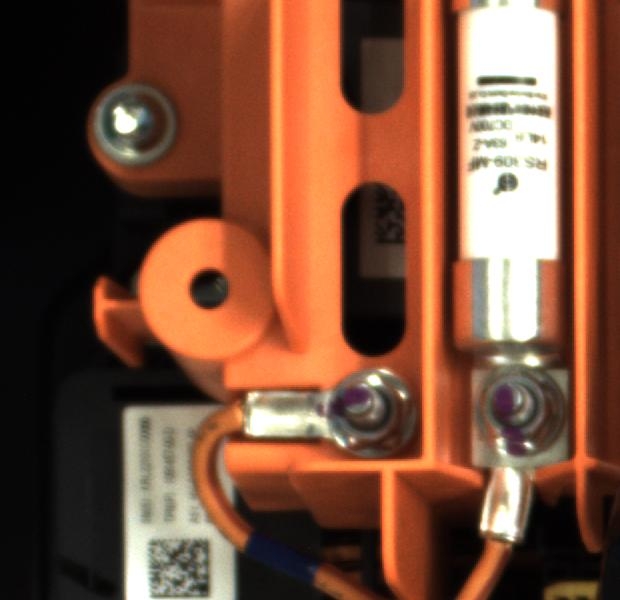screw_m: (81, 70, 196, 182)
screw_s: (467, 361, 582, 457), (315, 359, 421, 454)
